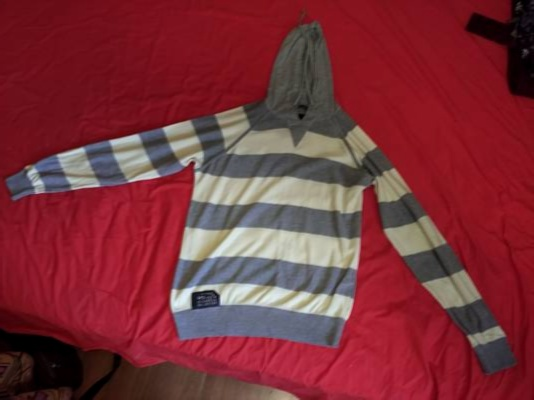Hoodie: (18, 26, 500, 373)
